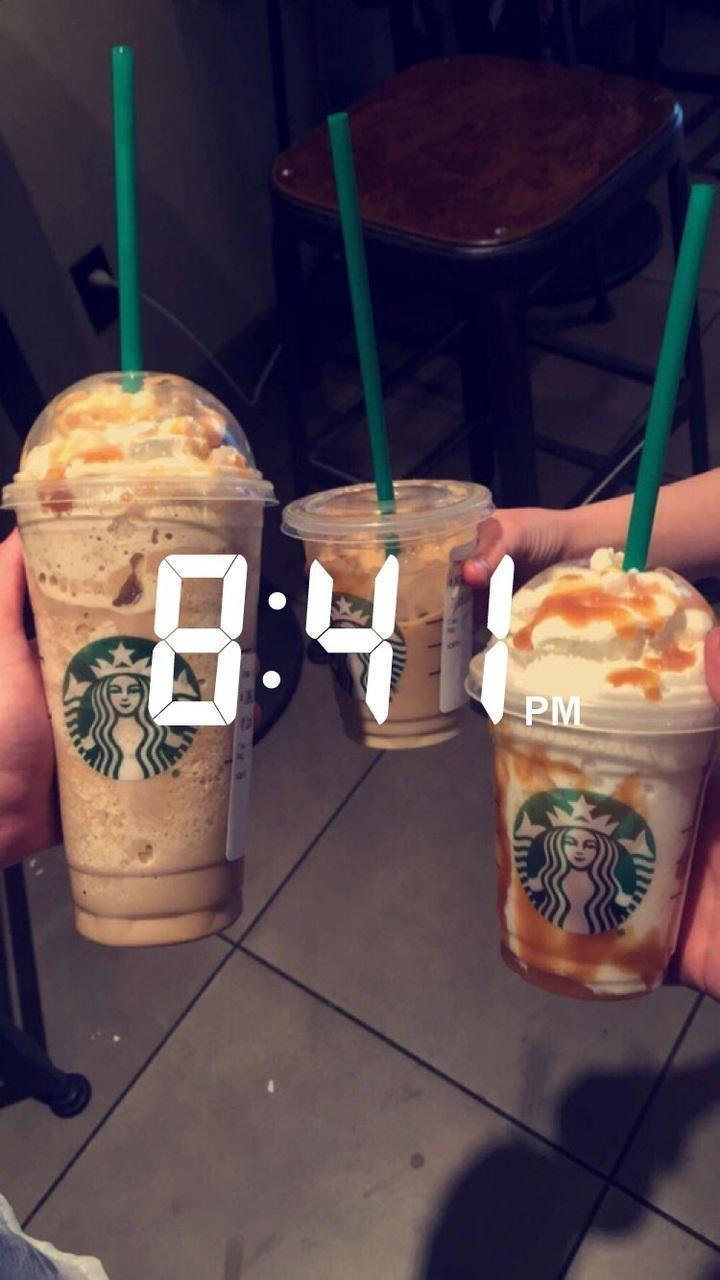cup-disposable: (5, 368, 280, 948), (483, 554, 715, 999), (281, 475, 497, 751)
